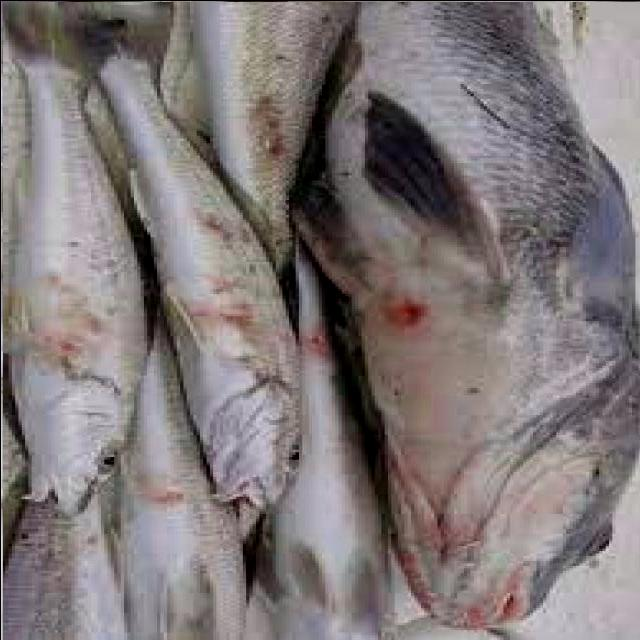EUS Disease: (1, 0, 639, 639), (62, 303, 439, 640), (236, 0, 394, 155), (278, 161, 426, 310), (64, 128, 178, 212), (452, 235, 558, 302)
